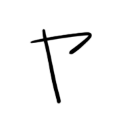ya: (28, 26, 93, 105)
